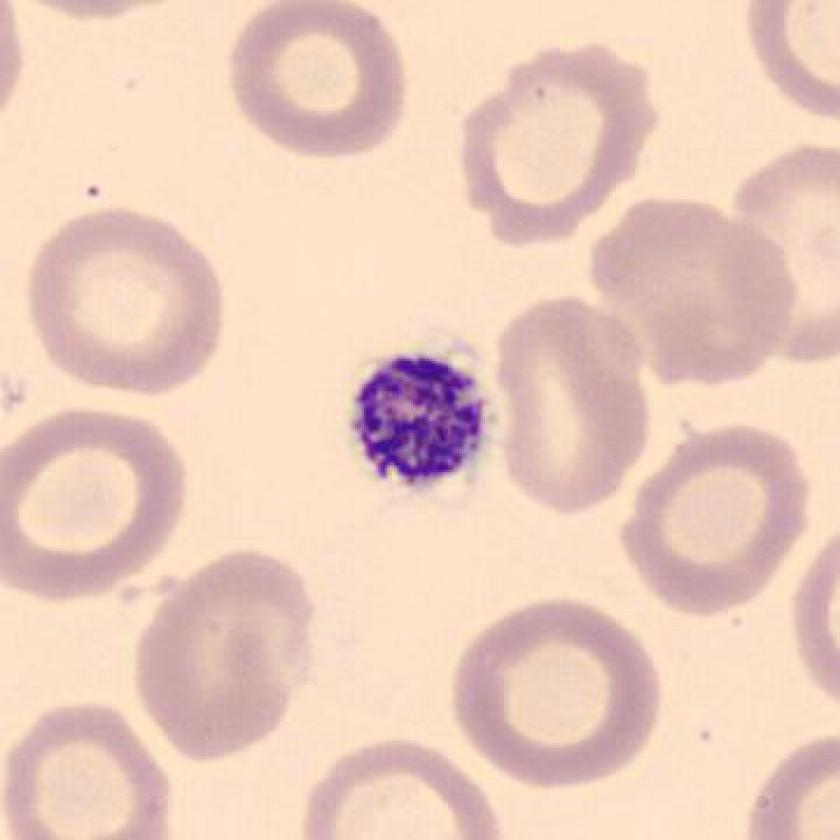platelets: (349, 344, 498, 499)
